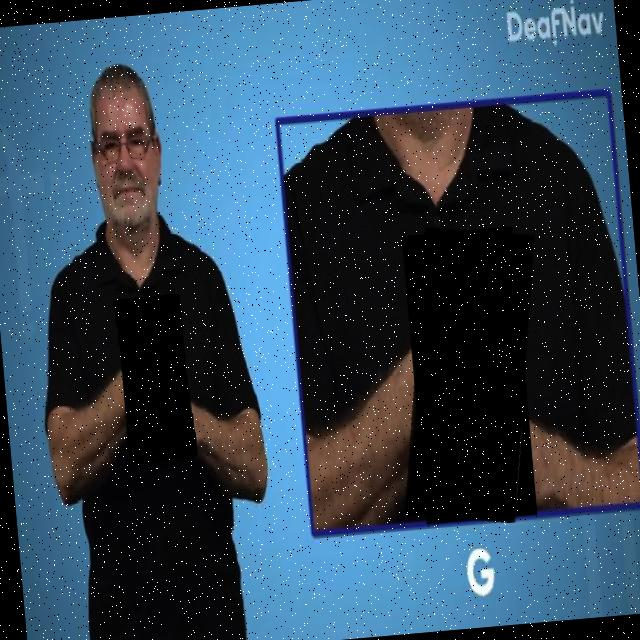G: (392, 223, 550, 529), (116, 294, 197, 465)
